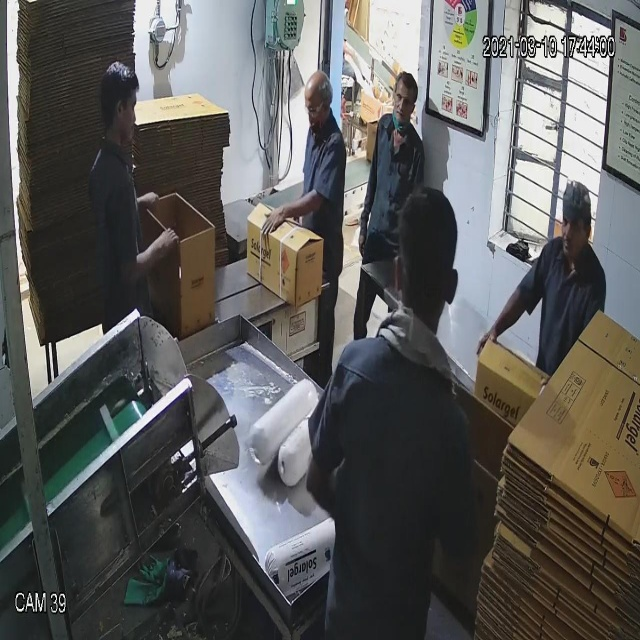Sin_guantes: (464, 271, 531, 367), (257, 184, 338, 245), (115, 222, 186, 291)
